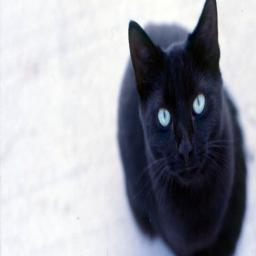catnose: (178, 143, 194, 165)
